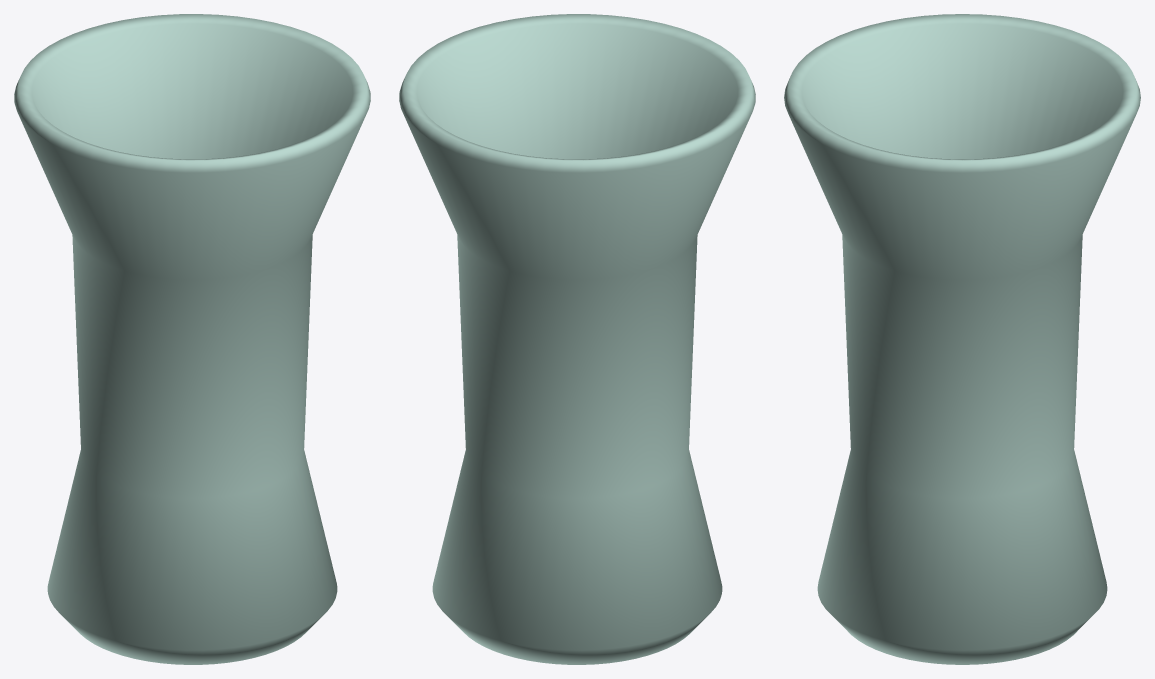
File: glass_vase.glb
3 views of the same model, side by side, from view 1: azimuth 30°, elevation 25°; view 2: azimuth 150°, elevation 25°; view 3: azimuth 270°, elevation 25° (orthographic).
Parts seen in each view (by area): view 1: glass_vase__body; view 2: glass_vase__body; view 3: glass_vase__body.
Part boxes in pixels (x1,y1,x2,y2): glass_vase__body: (14,14,370,664); glass_vase__body: (399,14,755,664); glass_vase__body: (784,14,1140,664).
Bounding box in the file's own units: 0.16 × 0.26 × 0.16.
